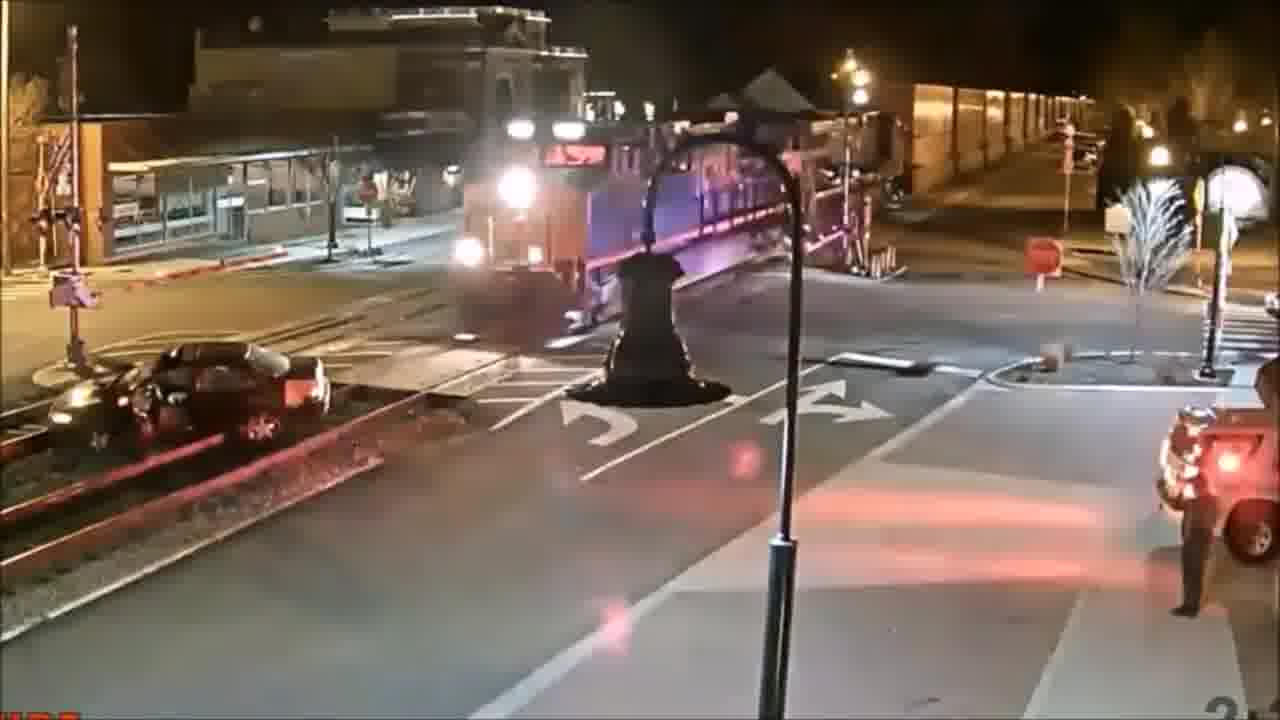crossing railway track: (34, 346, 354, 462)
